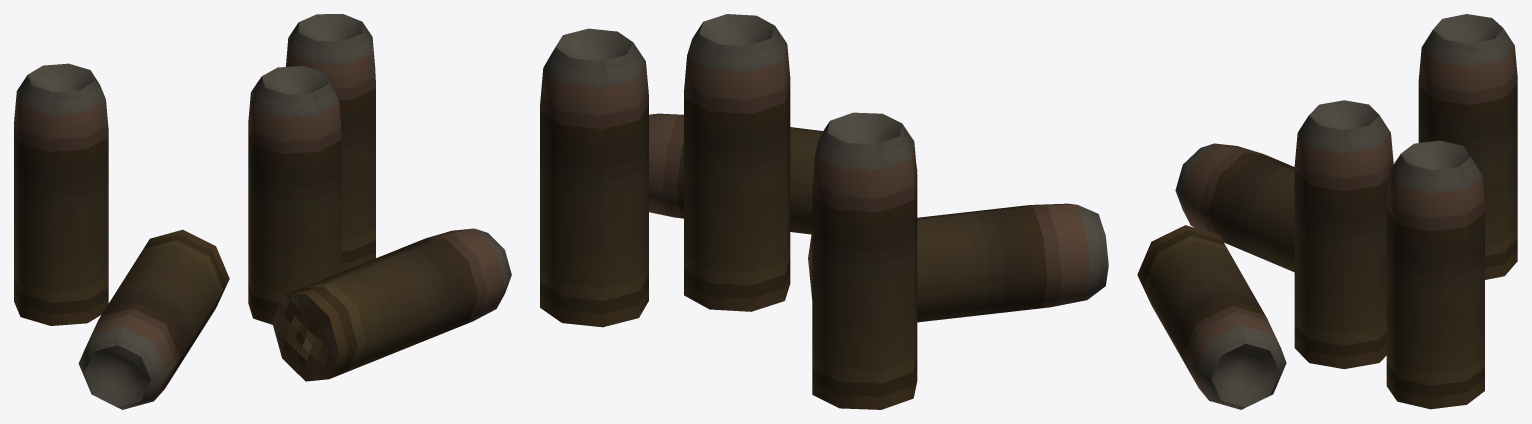
File: ammo_pistol_loose_5pcs_mp_2.glb
3 views of the same model, side by side, from view 1: azimuth 30°, elevation 25°; view 2: azimuth 150°, elevation 25°; view 3: azimuth 270°, elevation 25° (orthographic). The views are drawn at different scales.
Parts seen in each view (by area): view 1: ammo_pistol_loose_5pcs_mp_2; view 2: ammo_pistol_loose_5pcs_mp_2; view 3: ammo_pistol_loose_5pcs_mp_2.
Part boxes in pixels (x1,y1,x2,y2): ammo_pistol_loose_5pcs_mp_2: (14,14,511,409); ammo_pistol_loose_5pcs_mp_2: (540,14,1108,409); ammo_pistol_loose_5pcs_mp_2: (1137,14,1517,409).
Bounding box in the file's own units: 0.0631 × 0.0327 × 0.0484.
1 material, 1 textured.
